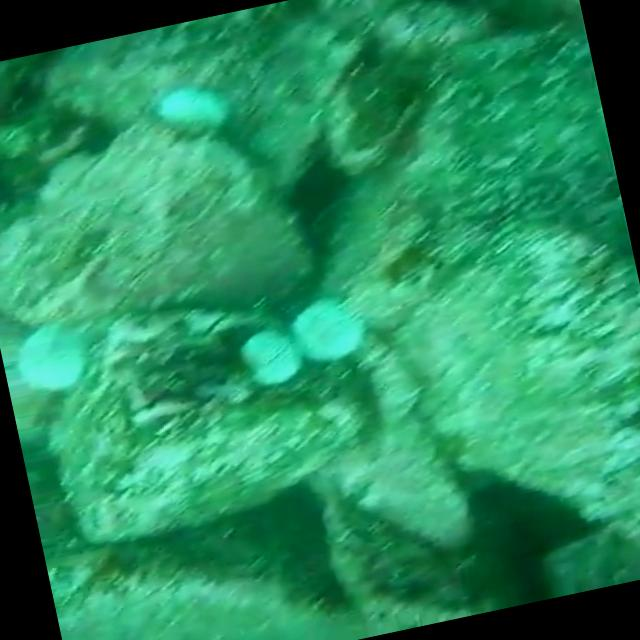Deniz Kestanesi: (0, 302, 97, 405), (280, 290, 372, 379), (151, 78, 236, 142), (232, 323, 300, 391)
